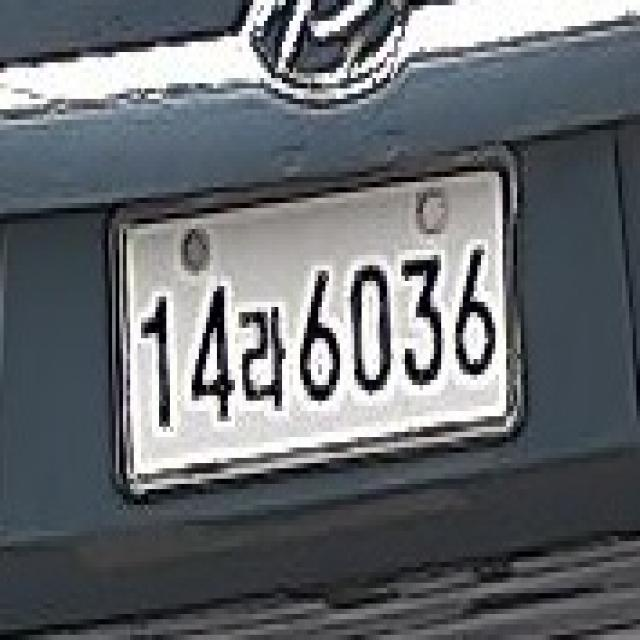0: (347, 245, 398, 411)
1: (134, 276, 184, 442)
3: (402, 250, 448, 400)
4: (184, 276, 238, 447)
6: (444, 240, 502, 390), (293, 255, 347, 416)
la: (239, 286, 289, 427)
license_plate: (101, 135, 528, 520)
